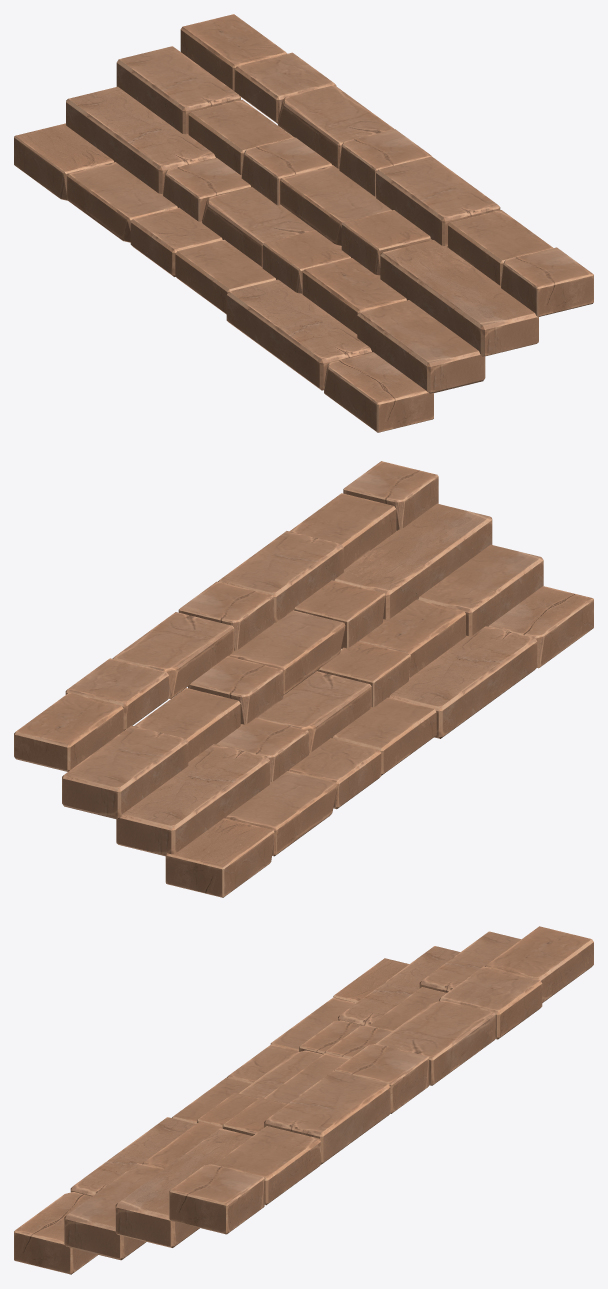
Rendered from SM_Stair_01.fbx.
3 renders of one model, top to bottom at view 1: azimuth 30°, elevation 25°; view 2: azimuth 150°, elevation 25°; view 3: azimuth 330°, elevation 25°, orthographic.
Parts seen in each view (by area): view 1: SM_Stair_01_LOD0; view 2: SM_Stair_01_LOD0; view 3: SM_Stair_01_LOD0.
Part boxes in pixels (x1,y1,x2,y2): SM_Stair_01_LOD0: [14, 14, 593, 432]; SM_Stair_01_LOD0: [14, 461, 593, 897]; SM_Stair_01_LOD0: [14, 926, 593, 1274].
Bounding box in the file's own units: 227 × 661 × 110.
Materials: 1 (1 with a texture image).
